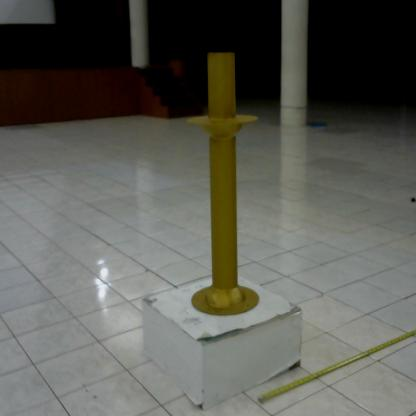pole: (180, 47, 266, 322)
